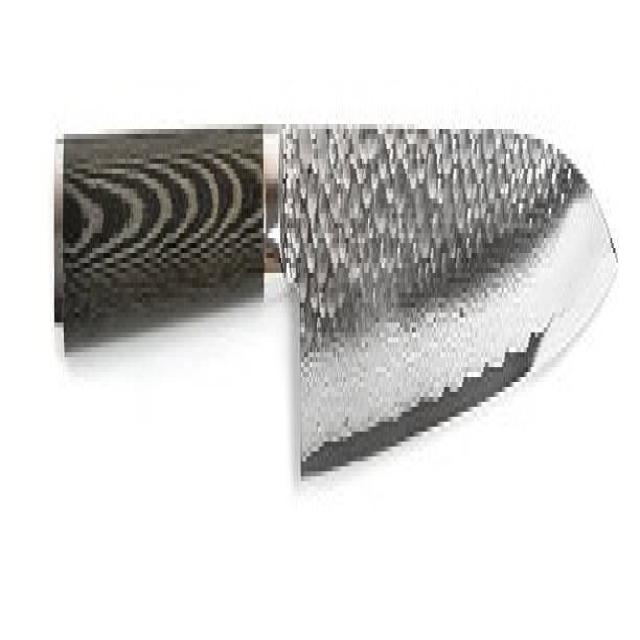knife: (49, 109, 626, 512)
